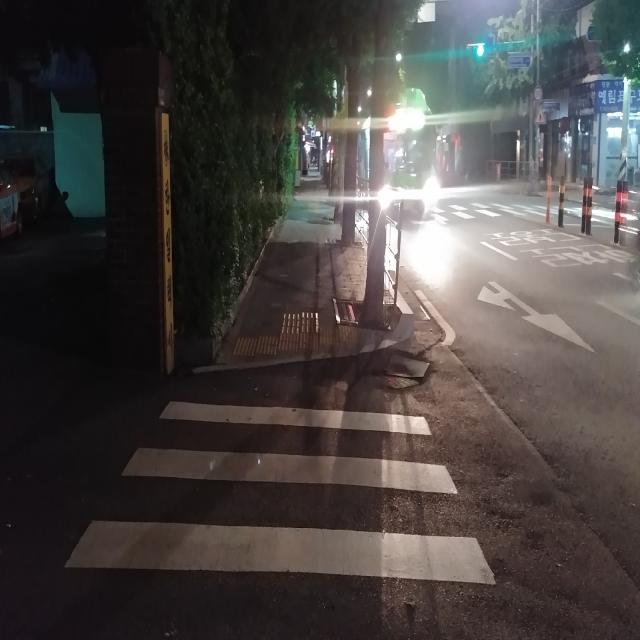횡단보도: (62, 397, 498, 591), (423, 186, 627, 227)
